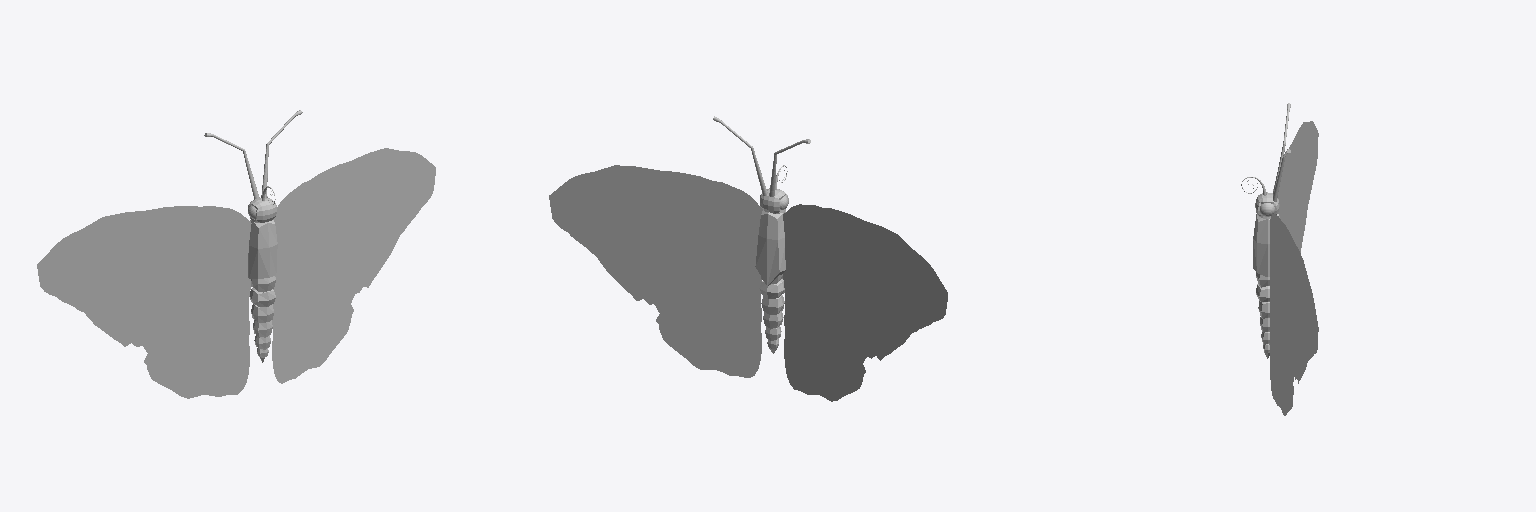
Rendered from butterfly.obj.
3 views of the same model, side by side, from view 1: azimuth 30°, elevation 25°; view 2: azimuth 150°, elevation 25°; view 3: azimuth 270°, elevation 25° (orthographic).
Visible parts, largest first — view 1: ButterfliesLP_Cylinder.000; view 2: ButterfliesLP_Cylinder.000; view 3: ButterfliesLP_Cylinder.000.
Boxes of the visible parts, box(x1,y1,x2,y2) form: ButterfliesLP_Cylinder.000: box(37, 110, 435, 398); ButterfliesLP_Cylinder.000: box(549, 116, 947, 401); ButterfliesLP_Cylinder.000: box(1241, 103, 1318, 415).
Size of the model in its own units: 1.29 by 0.8073 by 0.2163.